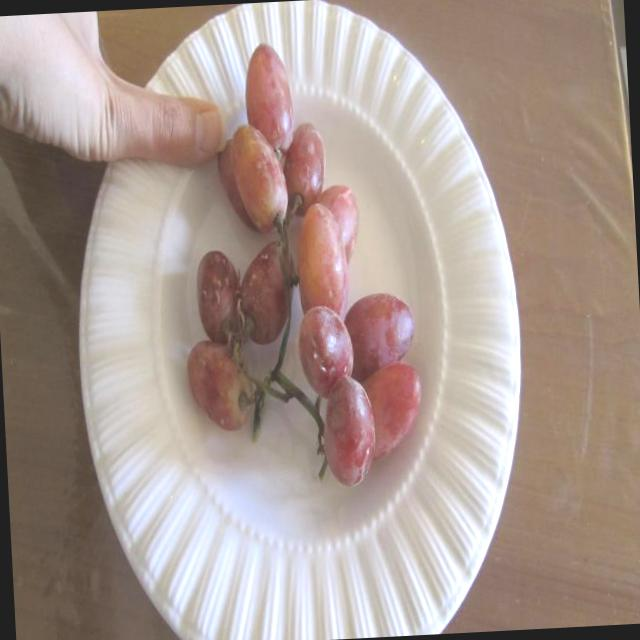Finger: (146, 74, 228, 176)
Grapes: (222, 29, 432, 504)
